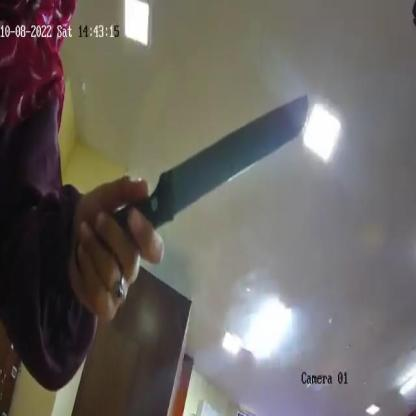Knife: (74, 96, 310, 271)
